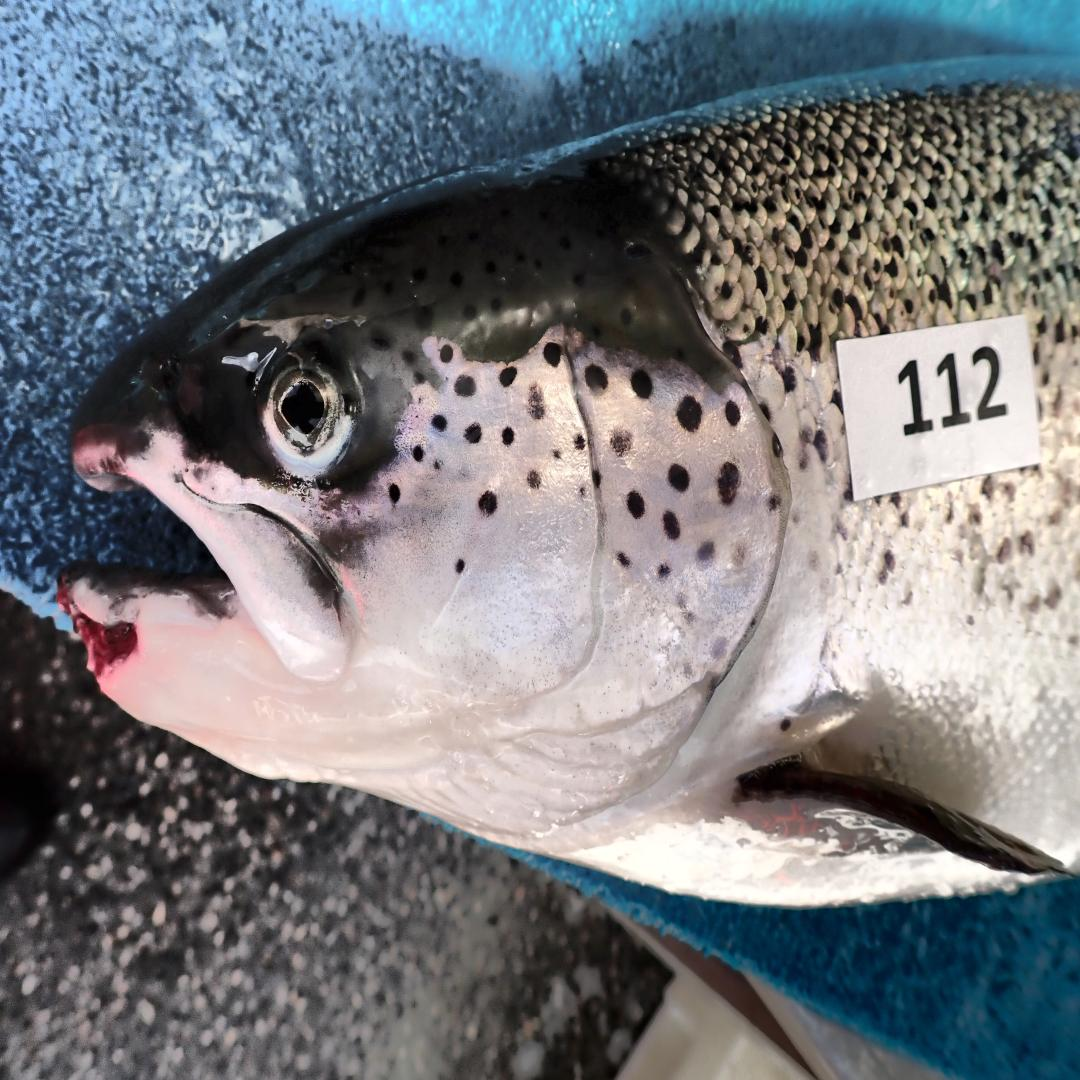spot: (717, 461, 740, 503), (677, 397, 702, 433), (631, 368, 652, 399), (610, 428, 633, 456), (730, 540, 749, 571), (669, 464, 690, 492), (527, 385, 544, 419), (662, 512, 681, 540), (696, 540, 715, 568), (454, 374, 477, 397), (584, 366, 608, 388), (626, 492, 645, 518), (479, 492, 498, 515), (710, 635, 727, 660), (544, 343, 561, 366), (726, 399, 740, 425), (464, 425, 481, 444), (500, 366, 517, 385), (439, 343, 454, 363), (432, 413, 447, 430), (656, 562, 671, 579), (616, 551, 631, 568), (772, 432, 782, 457), (527, 470, 540, 489), (388, 484, 401, 503), (502, 428, 515, 444), (768, 495, 780, 512), (574, 433, 586, 450), (413, 444, 424, 461), (677, 593, 687, 609), (456, 560, 466, 574), (553, 447, 563, 461), (593, 470, 601, 487), (432, 458, 443, 470), (685, 612, 695, 623), (579, 486, 586, 496)
